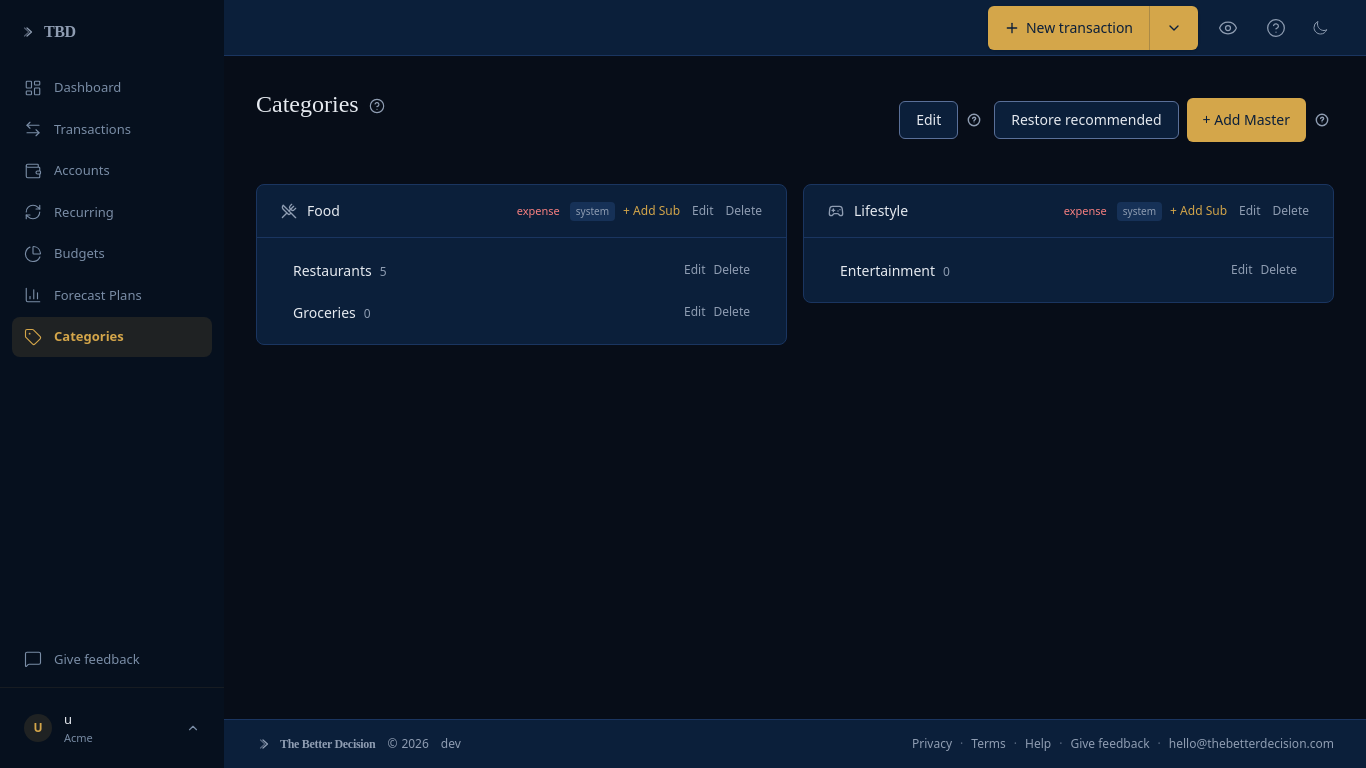
Test: CategoriesPage -C2 batch delete › aggregate counts surface when subs have dependents
Check: the text "Restaurants" is shown, box 293,261 -> 372,280
Click the button with test id "categories-edit-toggle". click: point(929, 120)
box: 899,101 -> 958,139
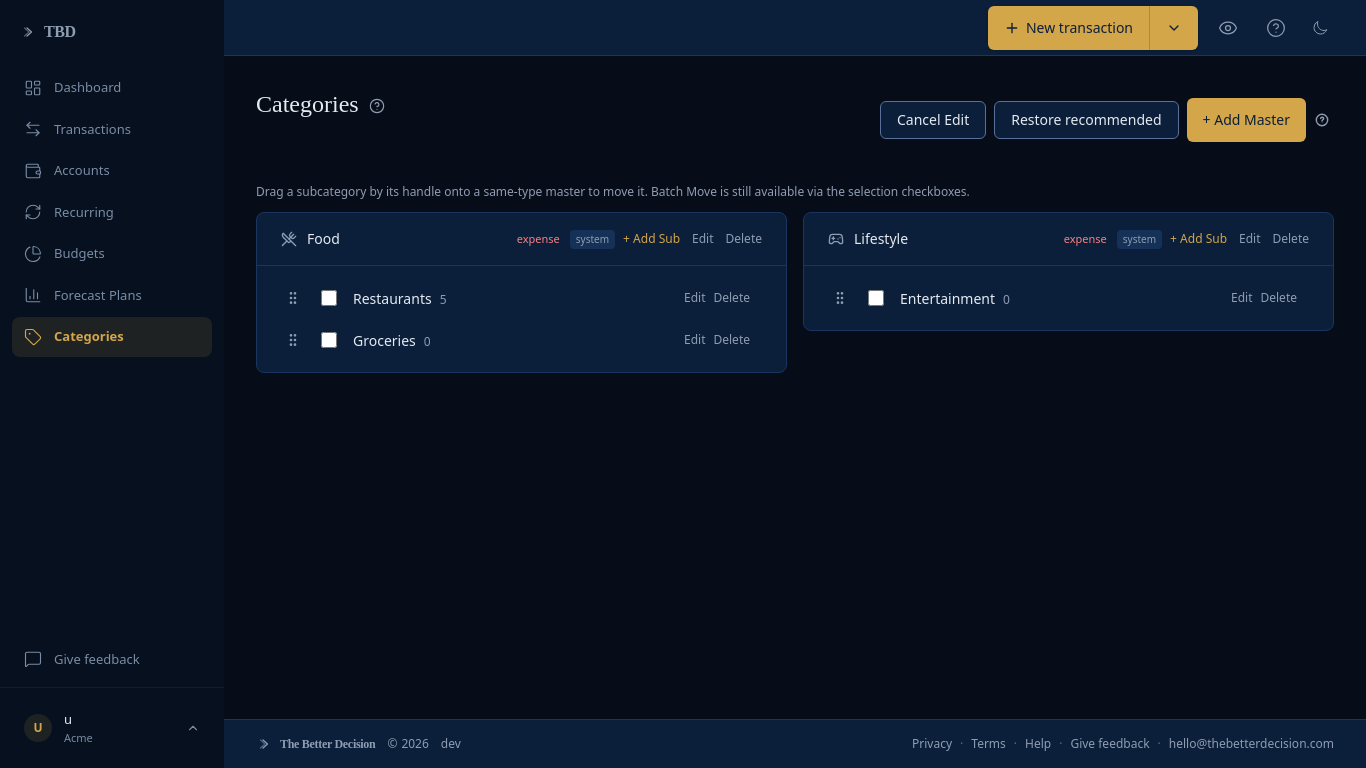
101 has 5 tx, 102 has 0
Click the checkbox with test id "sub-checkbox-101". click: point(329, 298)
box: 321,290 -> 337,306
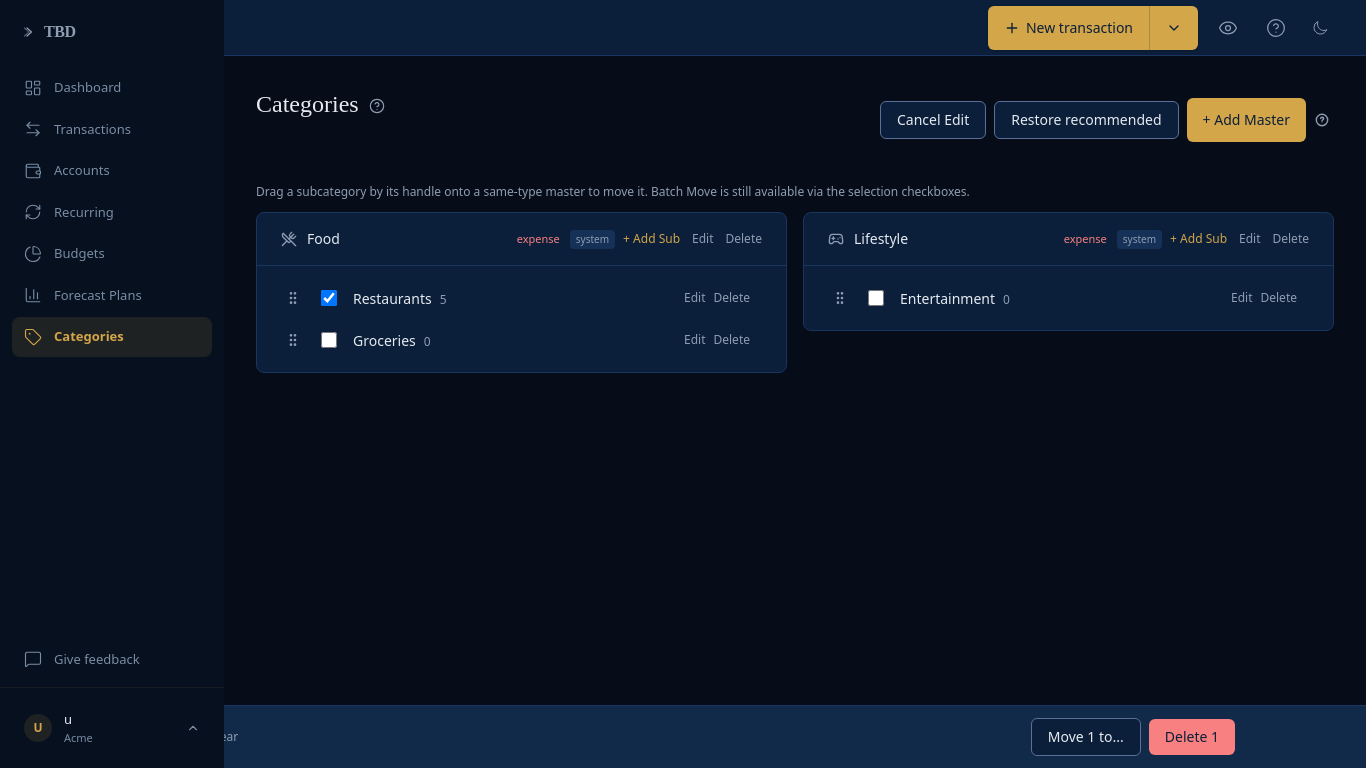
Click the checkbox with test id "sub-checkbox-102". click: point(329, 340)
box: 321,332 -> 337,348
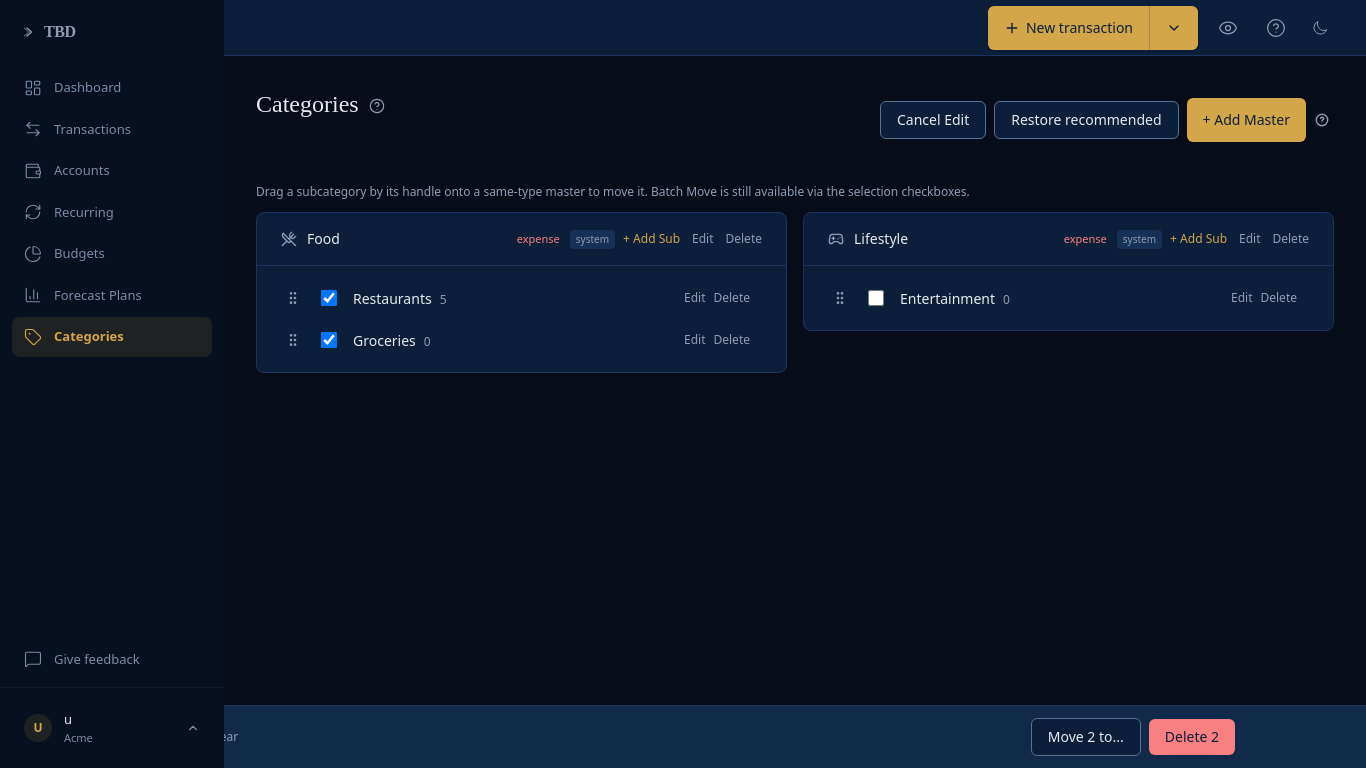
Click the button with test id "batch-delete-button". click: point(1192, 737)
box: 1149,719 -> 1235,755
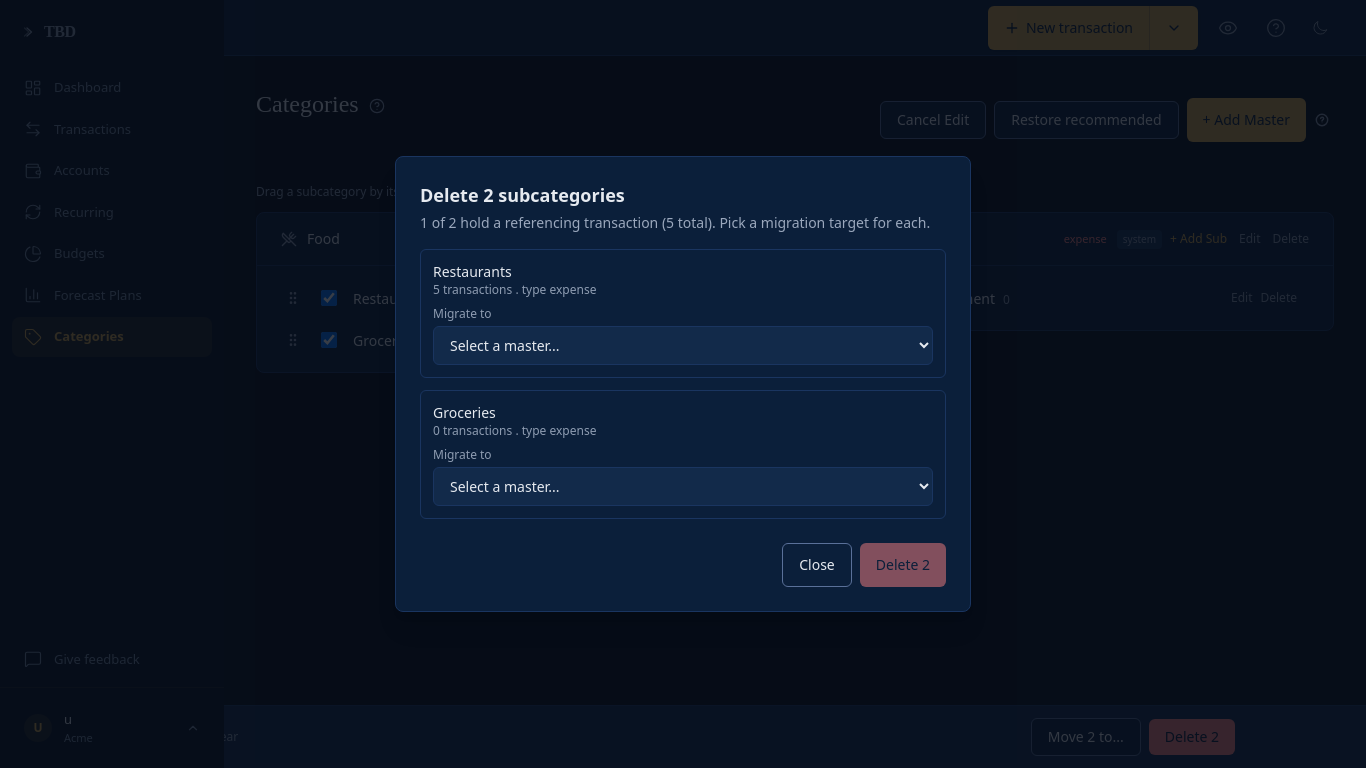
Check: the text with test id "batch-delete-aggregate" shows "1 of 2", box 420,213 -> 946,233
Check: the text with test id "batch-delete-aggregate" shows "5", box 666,213 -> 674,232
